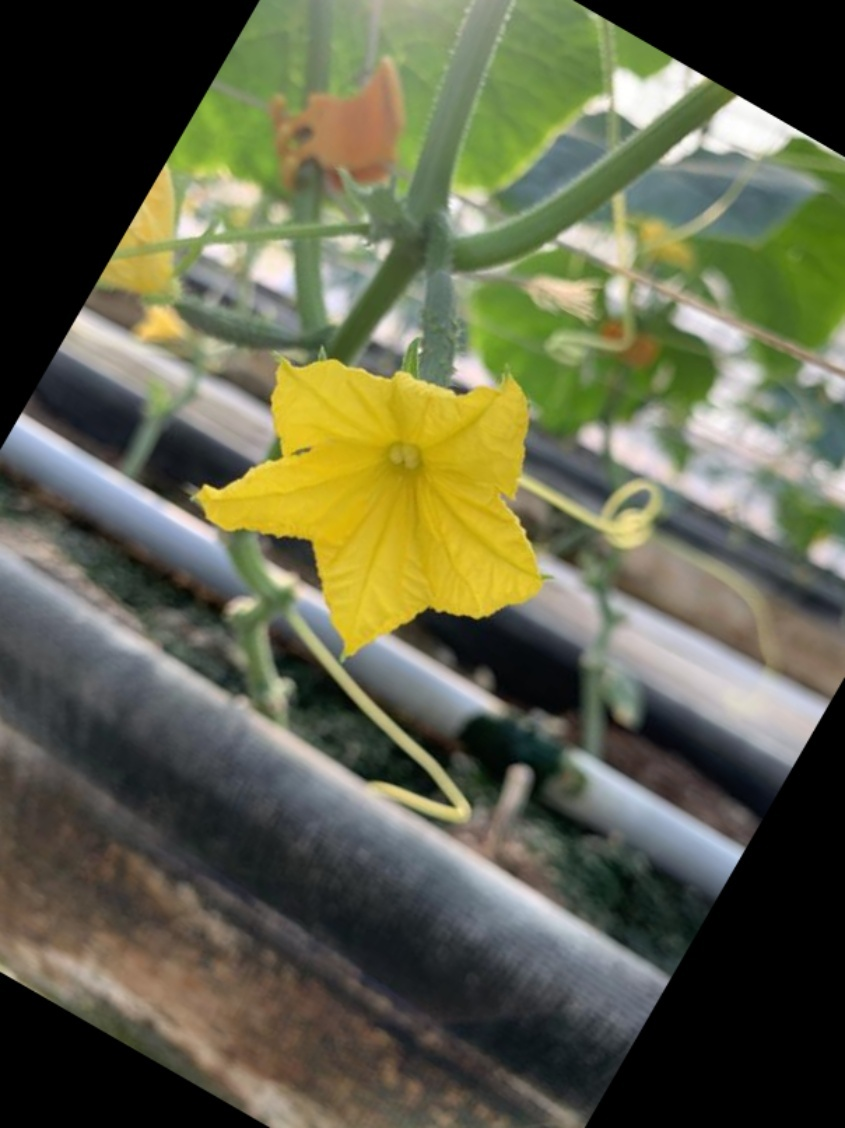flowering: (196, 236, 626, 655)
